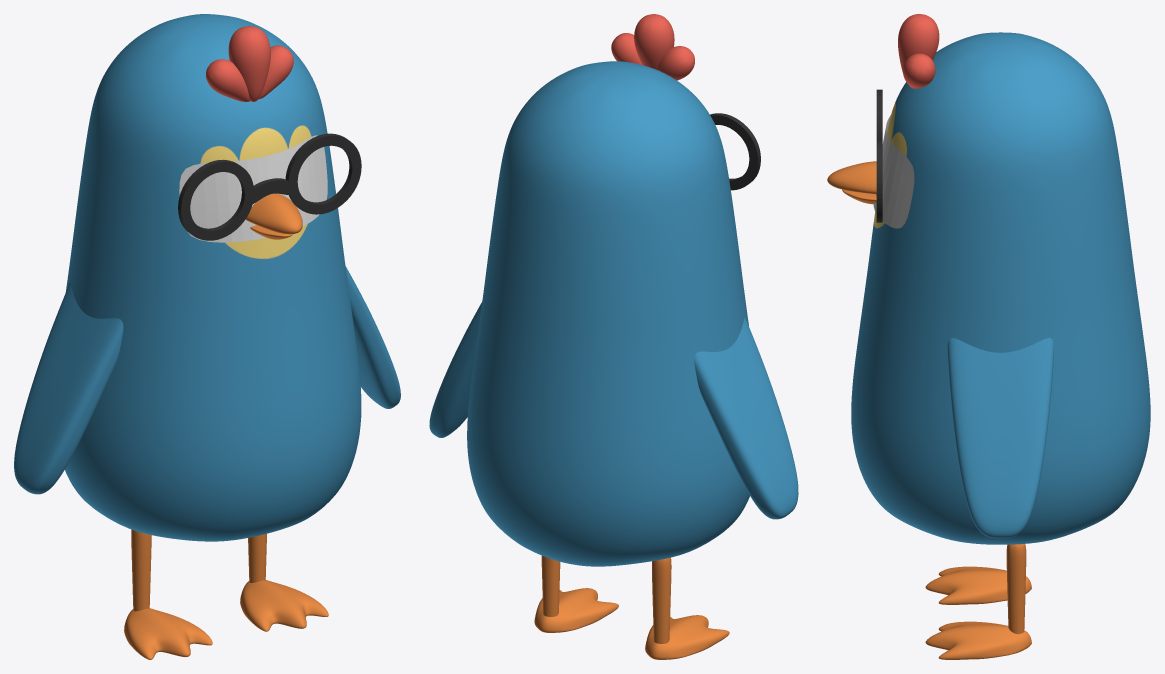
Rendered from Adam.fbx.
The picture shows the model from 3 angles, left to right: view 1: azimuth 30°, elevation 25°; view 2: azimuth 150°, elevation 25°; view 3: azimuth 270°, elevation 25°; orthographic projection. The views are drawn at different scales.
Parts seen in each view (by area): view 1: Body.001, Arms.001, Legs.001, Face.001, Glasses.001, Cocksbomb.001, Beak.001; view 2: Body.001, Arms.001, Legs.001, Cocksbomb.001, Glasses.001; view 3: Body.001, Arms.001, Legs.001, Cocksbomb.001, Face.001, Beak.001, Glasses.001.
Boxes of the visible parts, x1,y1,x2,y2 form: Body.001: (65,14,361,541); Arms.001: (14,266,400,494); Legs.001: (124,529,328,659); Face.001: (179,135,327,242); Glasses.001: (178,133,361,240); Cocksbomb.001: (206,26,293,101); Beak.001: (246,193,302,239); Body.001: (467,61,749,566); Arms.001: (429,302,798,519); Legs.001: (534,555,729,659); Cocksbomb.001: (611,14,694,80); Glasses.001: (710,113,760,190); Body.001: (851,32,1150,544); Arms.001: (947,338,1053,538); Legs.001: (925,544,1031,659); Cocksbomb.001: (898,14,939,88); Face.001: (873,115,914,228); Beak.001: (827,161,876,204); Glasses.001: (876,89,882,222).
Size of the model in its own units: 70.98 by 114 by 55.37.
5 materials, 1 textured.
